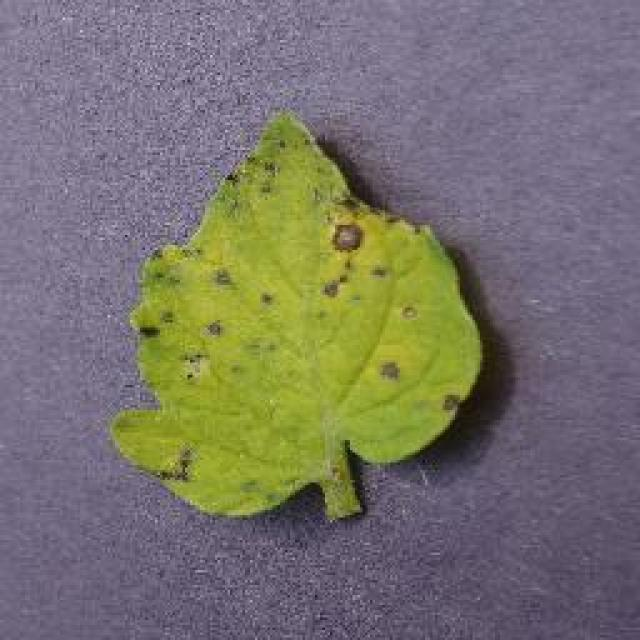Tomato target spot leaf: (111, 118, 489, 520)
